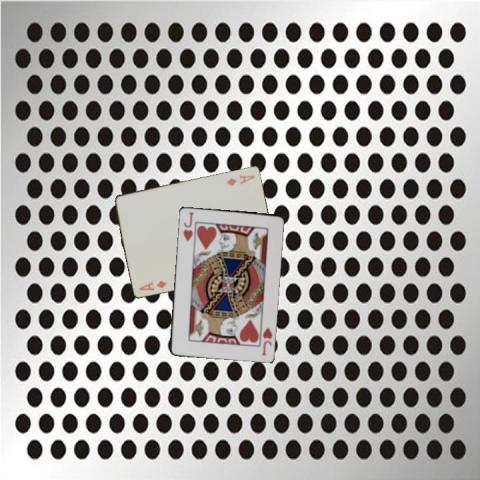Ad: (224, 171, 257, 187), (136, 277, 168, 292)
Jh: (180, 208, 195, 243), (258, 324, 273, 357)
